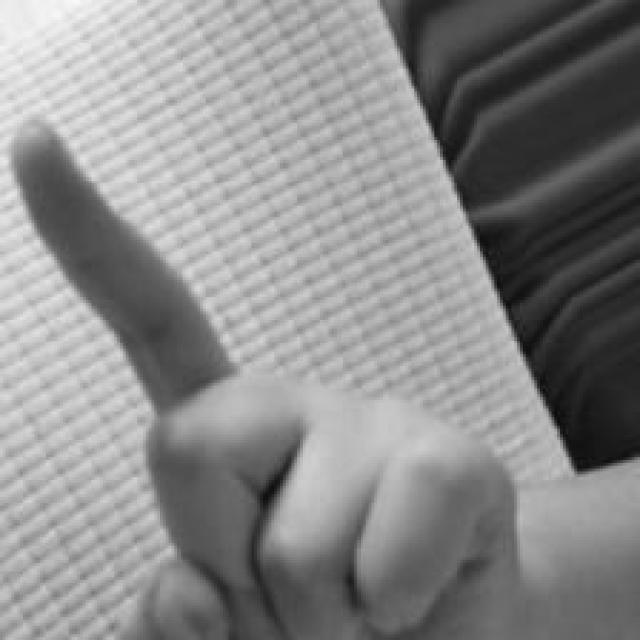I: (9, 114, 523, 640)
